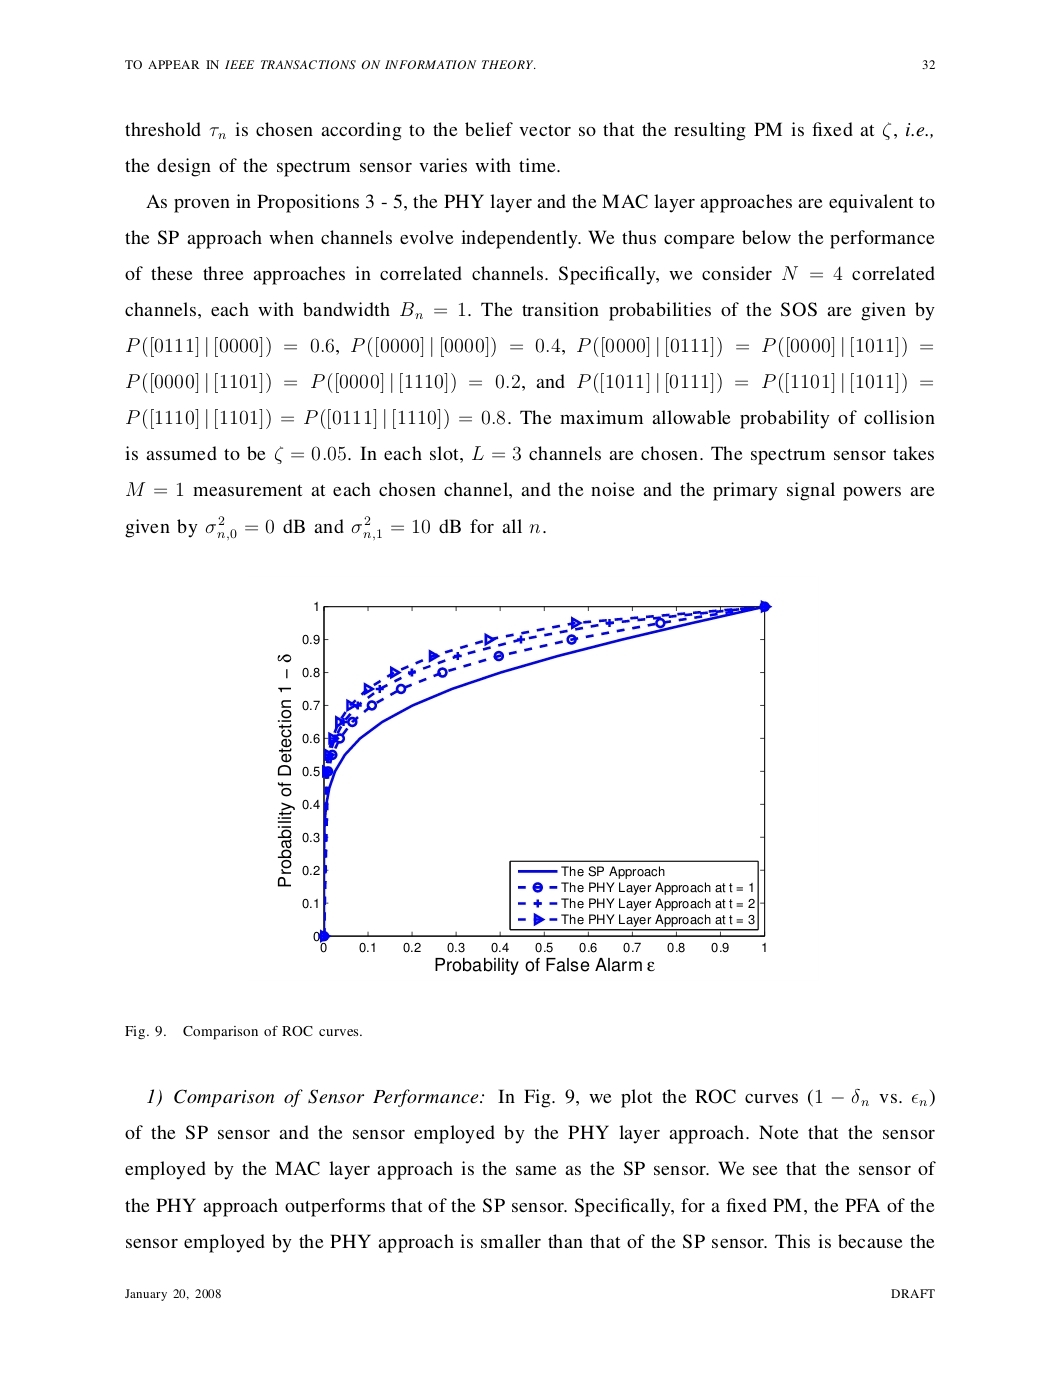figure: (278, 600, 771, 974)
formula: (126, 335, 932, 357), (126, 372, 932, 393)
